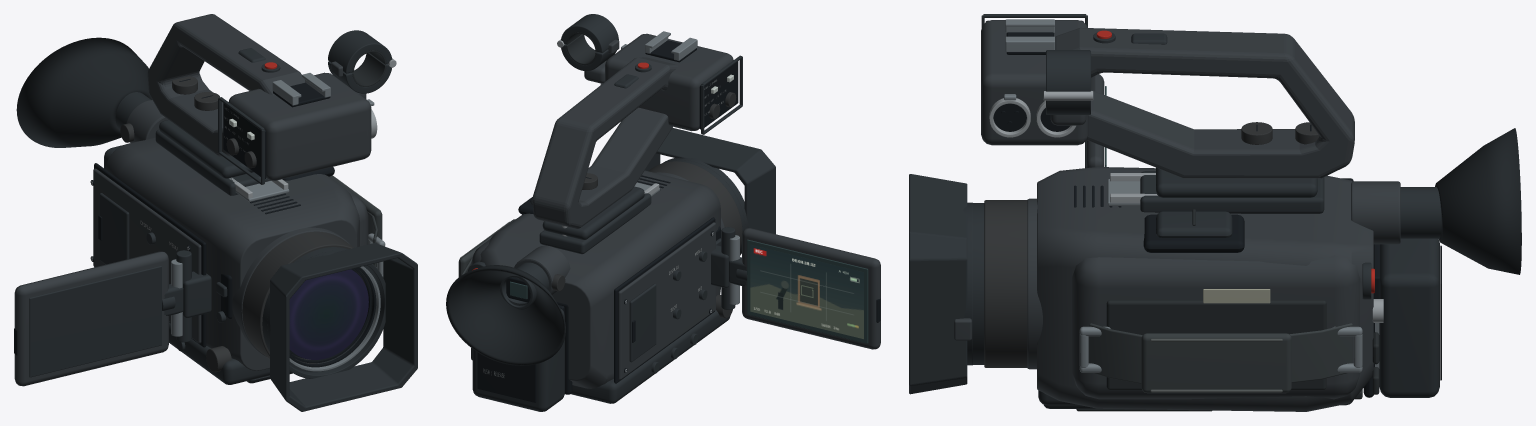
Rendered from C04_Field_Camera.glb.
3 renders of one model, left to right at view 1: azimuth 30°, elevation 25°; view 2: azimuth 150°, elevation 25°; view 3: azimuth 270°, elevation 25°, orthographic. The views are drawn at different scales.
Visible parts, largest first — view 1: Body • tapered molded core, Hood • hollow chamfered flare, LCD • rear inset, EVF • hollow soft eyecup, Handle • continuous load-bearing loop, Audio • front crosshead, Lens • curved coated optical front, LCD • molded frame, Body • left control cavity, Lens • single broad grip ring, Door • dual memory slot, Audio • left control panel (+27 smaller); view 2: Body • tapered molded core, Handle • continuous load-bearing loop, EVF • hollow soft eyecup, LCD • single image display, Body • left control cavity, Hood • hollow chamfered flare, Audio • front crosshead, LCD • molded frame, Body • lower control sill, Battery • short pack, Battery • rear inset label, Lens • single broad grip ring (+18 smaller); view 3: Body • tapered molded core, Handle • continuous load-bearing loop, Body • right palm shell, Hood • hollow chamfered flare, Battery • short pack, EVF • hollow soft eyecup, Strap • padded central cushion, Body • palm rubber inlay, Lens • single broad grip ring, Audio • front crosshead, Strap • continuous woven band, Handle • body saddle (+16 smaller).
Part boxes in pixels (x1=…): Body • tapered molded core: x1=105, y1=137, x2=359, y2=370; Hood • hollow chamfered flare: x1=270, y1=243, x2=417, y2=411; LCD • rear inset: x1=29, y1=266, x2=161, y2=377; EVF • hollow soft eyecup: x1=16, y1=37, x2=152, y2=147; Handle • continuous load-bearing loop: x1=147, y1=14, x2=304, y2=156; Audio • front crosshead: x1=228, y1=72, x2=371, y2=180; Lens • curved coated optical front: x1=289, y1=269, x2=368, y2=359; LCD • molded frame: x1=14, y1=251, x2=168, y2=386; Body • left control cavity: x1=93, y1=168, x2=201, y2=343; Lens • single broad grip ring: x1=242, y1=231, x2=370, y2=371; Door • dual memory slot: x1=99, y1=193, x2=129, y2=264; Audio • left control panel: x1=223, y1=103, x2=266, y2=178; Body • tapered molded core: x1=480, y1=170, x2=720, y2=388; Handle • continuous load-bearing loop: x1=532, y1=57, x2=677, y2=228; EVF • hollow soft eyecup: x1=446, y1=265, x2=565, y2=365; LCD • single image display: x1=750, y1=244, x2=863, y2=339; Body • left control cavity: x1=618, y1=222, x2=715, y2=379; Hood • hollow chamfered flare: x1=645, y1=128, x2=775, y2=234; Audio • front crosshead: x1=605, y1=33, x2=733, y2=131; LCD • molded frame: x1=742, y1=228, x2=880, y2=349; Body • lower control sill: x1=571, y1=310, x2=730, y2=403; Battery • short pack: x1=472, y1=308, x2=564, y2=411; Battery • rear inset label: x1=477, y1=352, x2=536, y2=402; Lens • single broad grip ring: x1=648, y1=161, x2=742, y2=248; Body • tapered molded core: x1=1037, y1=167, x2=1373, y2=411; Handle • continuous load-bearing loop: x1=1055, y1=27, x2=1354, y2=178; Body • right palm shell: x1=1072, y1=255, x2=1360, y2=399; Hood • hollow chamfered flare: x1=909, y1=174, x2=967, y2=394; Battery • short pack: x1=1379, y1=238, x2=1439, y2=397; EVF • hollow soft eyecup: x1=1435, y1=128, x2=1521, y2=274; Strap • padded central cushion: x1=1141, y1=333, x2=1291, y2=393; Body • palm rubber inlay: x1=1106, y1=300, x2=1326, y2=390; Lens • single broad grip ring: x1=984, y1=200, x2=1027, y2=367; Audio • front crosshead: x1=981, y1=20, x2=1088, y2=145; Strap • continuous woven band: x1=1089, y1=323, x2=1352, y2=383; Handle • body saddle: x1=1156, y1=167, x2=1317, y2=197.
Bounding box in the file's own units: 0.2402 × 0.1858 × 0.273.
20 materials, 6 textured.
